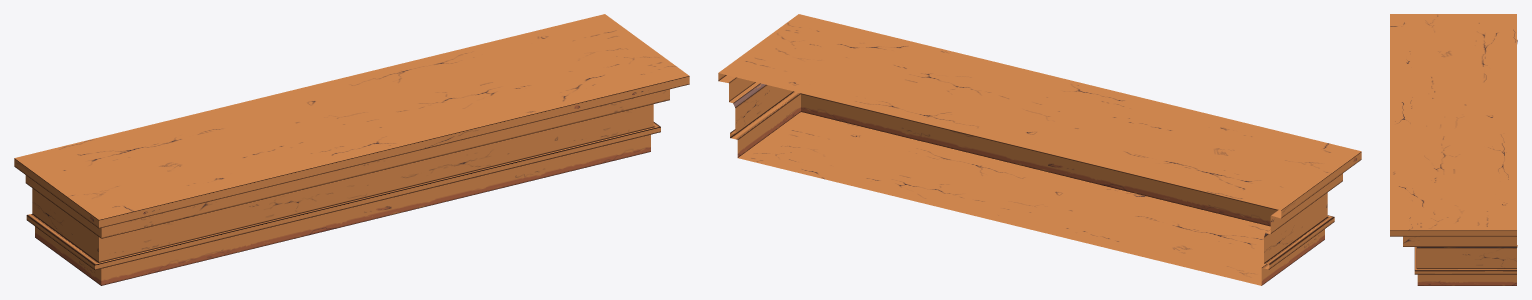
File: Petra_Ceiling.fbx
The picture shows the model from 3 angles, left to right: view 1: azimuth 30°, elevation 25°; view 2: azimuth 150°, elevation 25°; view 3: azimuth 270°, elevation 25°; orthographic projection. The views are drawn at different scales.
Parts seen in each view (by area): view 1: Petra; view 2: Petra; view 3: Petra.
Boxes of the visible parts, bbox=[...] form: Petra: bbox=[14, 14, 689, 285]; Petra: bbox=[718, 14, 1361, 285]; Petra: bbox=[1390, 14, 1517, 285].
Size of the model in its own units: 2579 by 644 by 352.
